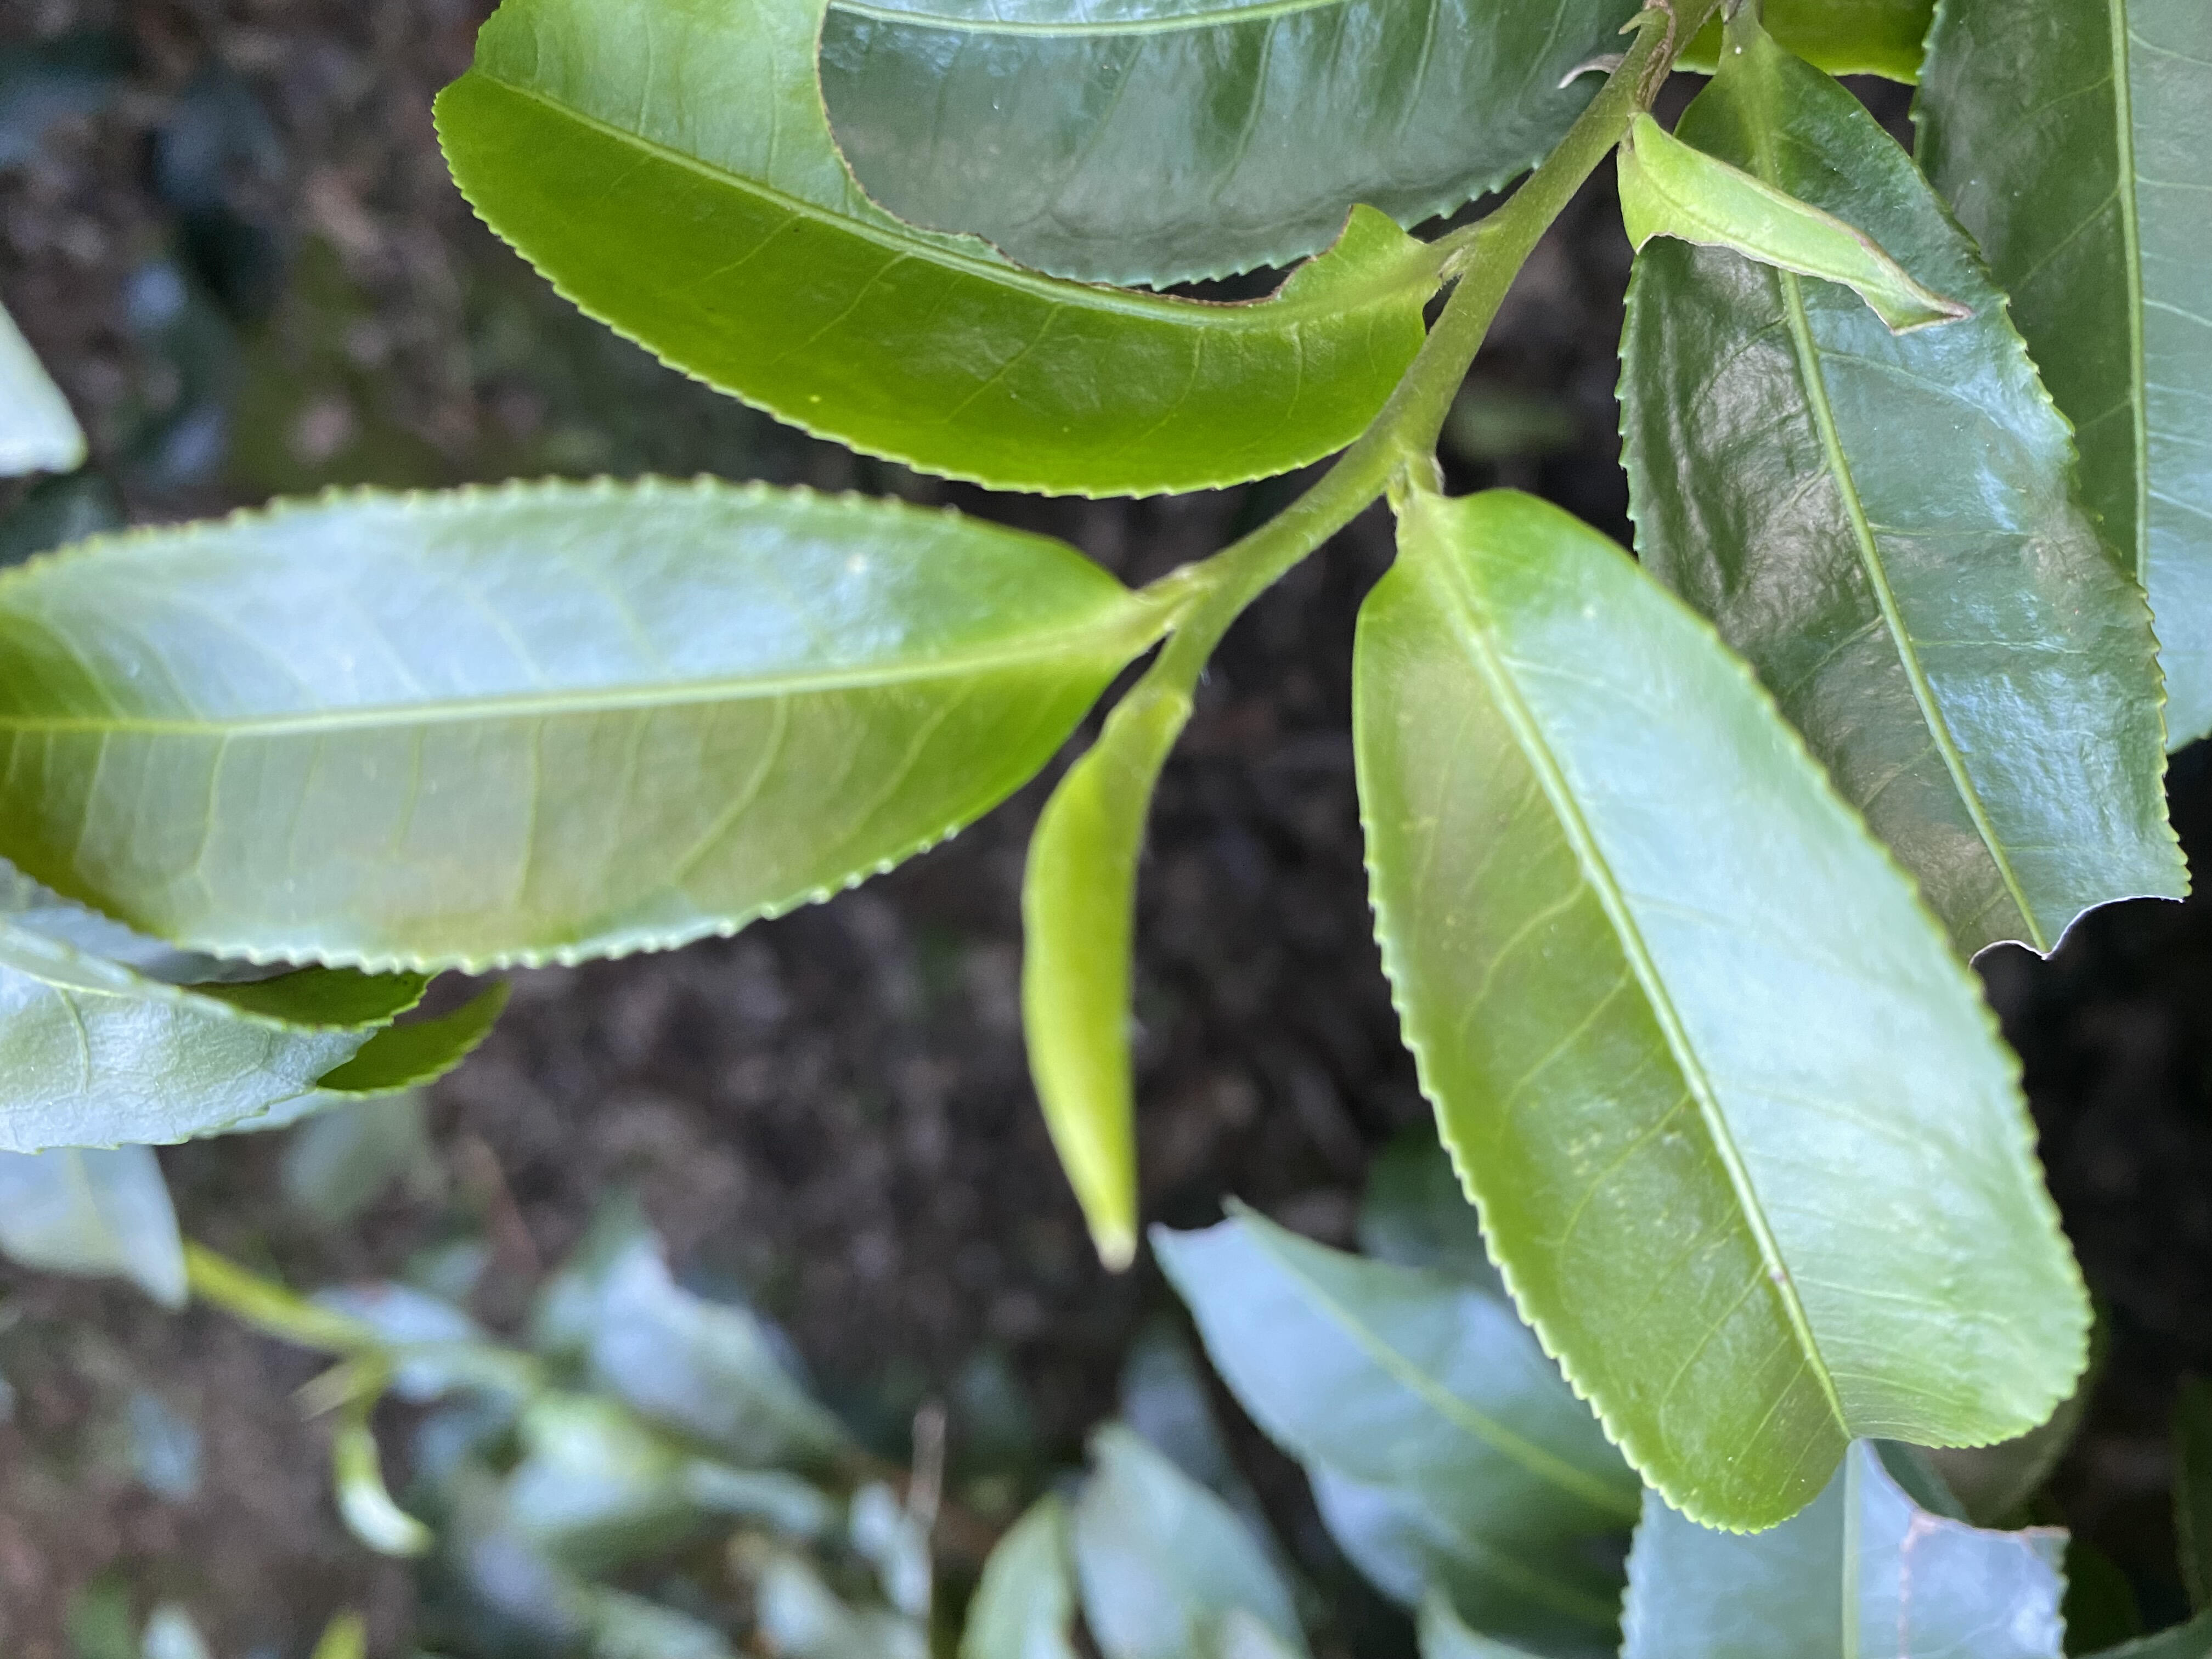chihuo_high: (1611, 54, 2195, 967), (427, 2, 1430, 505), (1609, 120, 1973, 336)
healthy: (1348, 488, 2097, 1535), (2, 477, 1141, 983)
